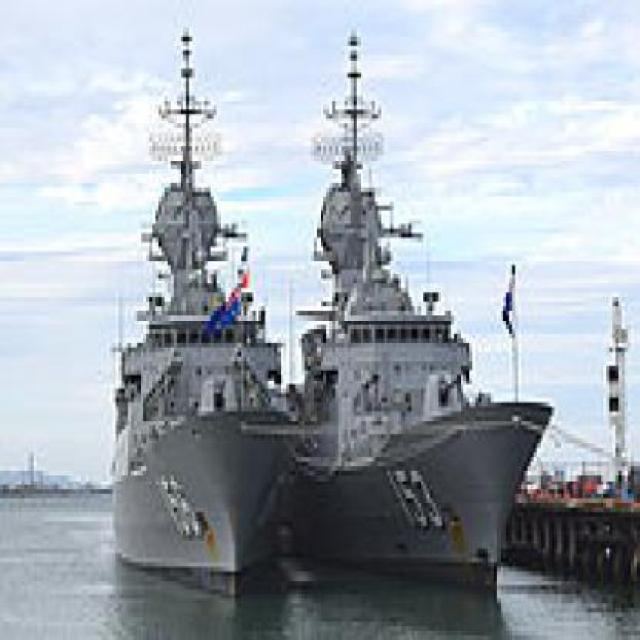warship2: (285, 33, 565, 596), (92, 1, 324, 592)
